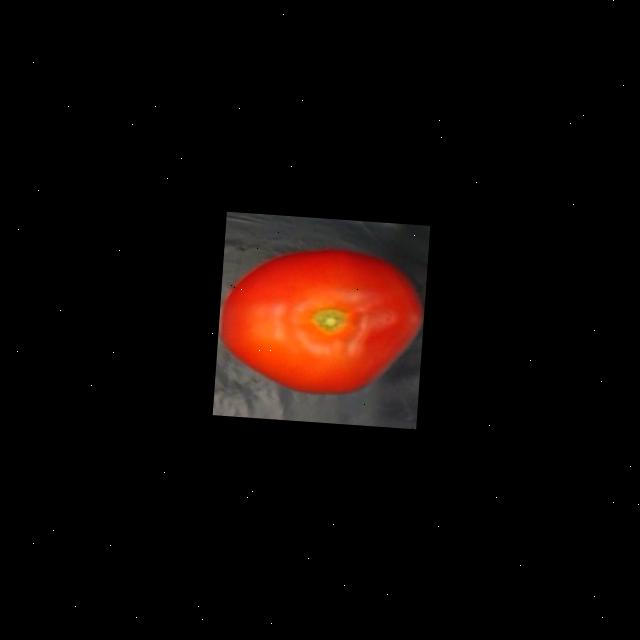tomato: (213, 235, 426, 404)
